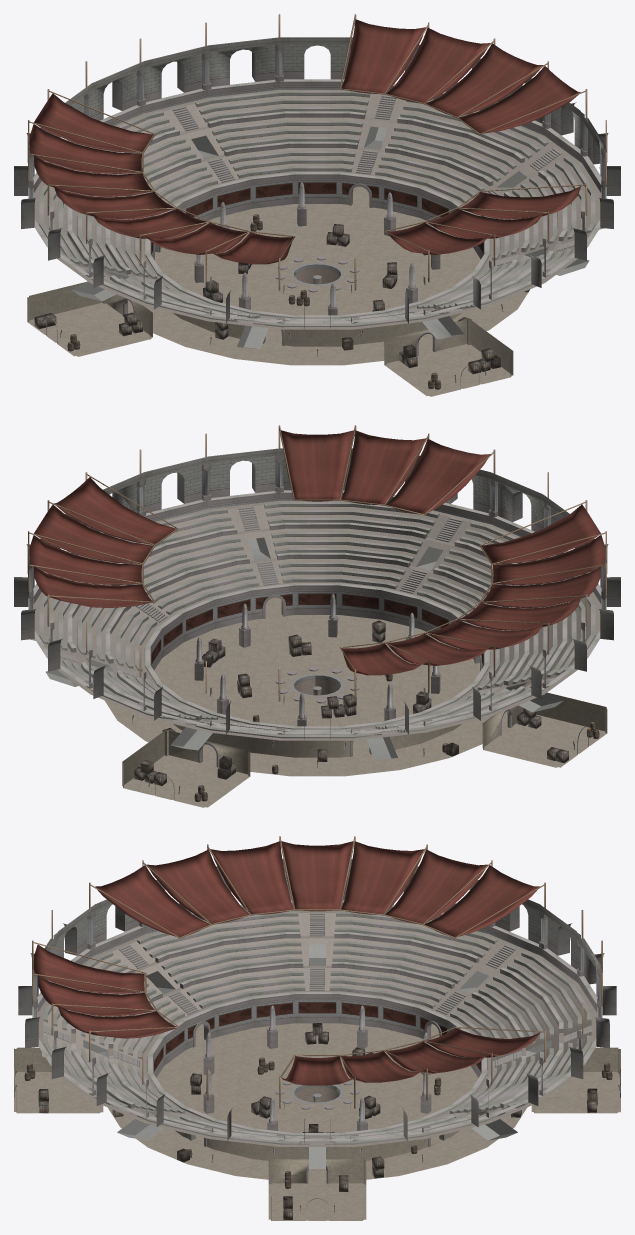
Rendered from Arena.glb.
3 views of the same model, one above another, from view 1: azimuth 30°, elevation 25°; view 2: azimuth 150°, elevation 25°; view 3: azimuth 270°, elevation 25° (orthographic).
Parts seen in each view (by area): view 1: Main, Props; view 2: Main, Props; view 3: Main, Props.
Boxes of the visible parts, x1,y1,x2,y2 form: Main: (14,14,620,396); Props: (34,214,529,389); Main: (14,425,620,807); Props: (131,620,599,801); Main: (14,836,620,1220); Props: (14,1023,620,1219).
Size of the model in its own units: 73.32 by 26.03 by 73.32.
Materials: 14 (14 with a texture image).
